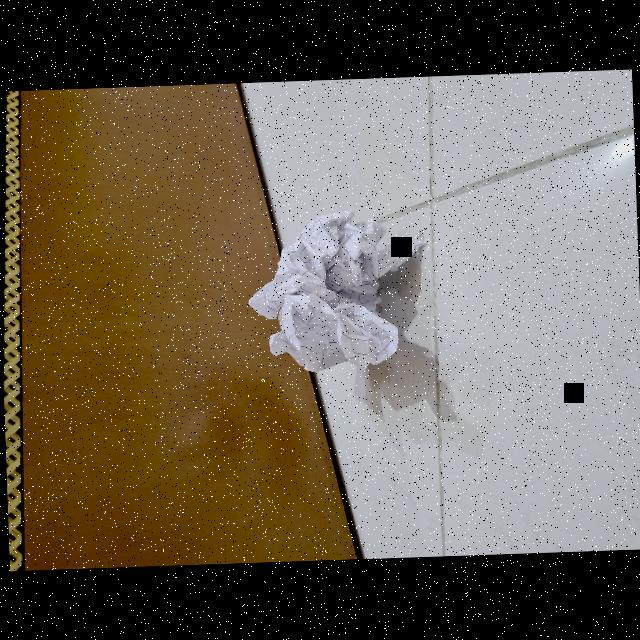scrap_paper: (240, 208, 428, 380)
